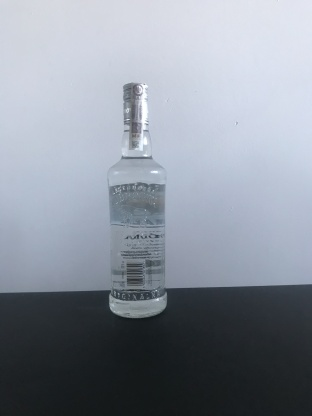nakretka: (120, 79, 151, 128)
